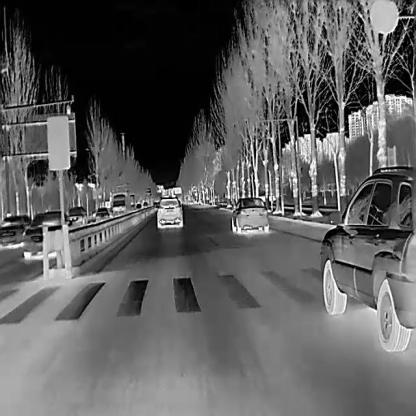car: (318, 164, 416, 350), (21, 210, 69, 256), (230, 195, 269, 232), (0, 213, 32, 246), (155, 195, 182, 227), (67, 204, 87, 227), (95, 205, 110, 226), (134, 202, 141, 212)
truck: (111, 190, 131, 218)
